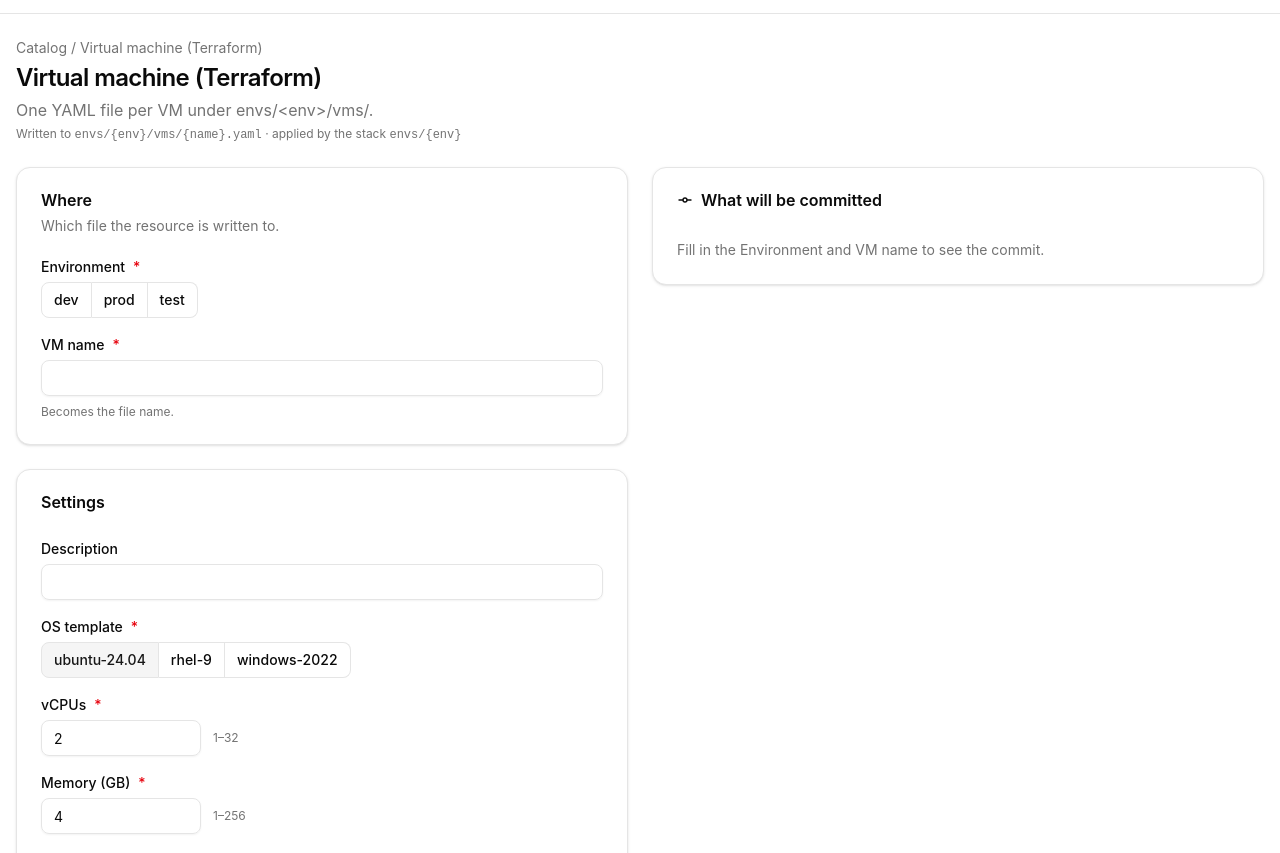
Test case: a resource request previews its commit and approvals, then submits
Expected: the heading "Virtual machine (Terraform)" is shown, left=16, top=63, right=322, bottom=92
Expected: the text "Fill in the Environment and VM name to see the commit." is shown, left=677, top=241, right=1044, bottom=258
Click the radio button labelled "prod" at (120, 300), box left=92, top=282, right=148, bottom=318
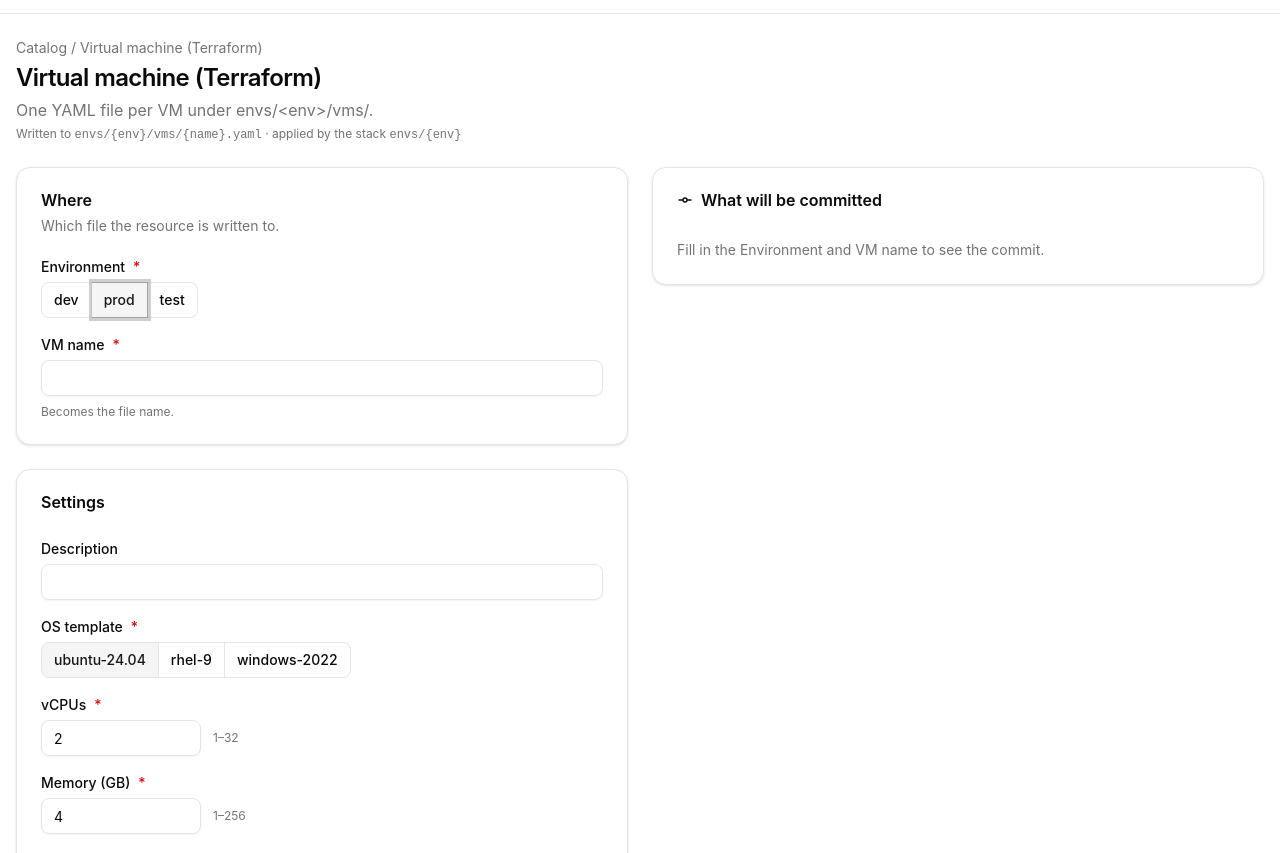
Type "web01" into the field labelled "VM name *" at (322, 378), box left=41, top=360, right=603, bottom=396
(page scrolled)
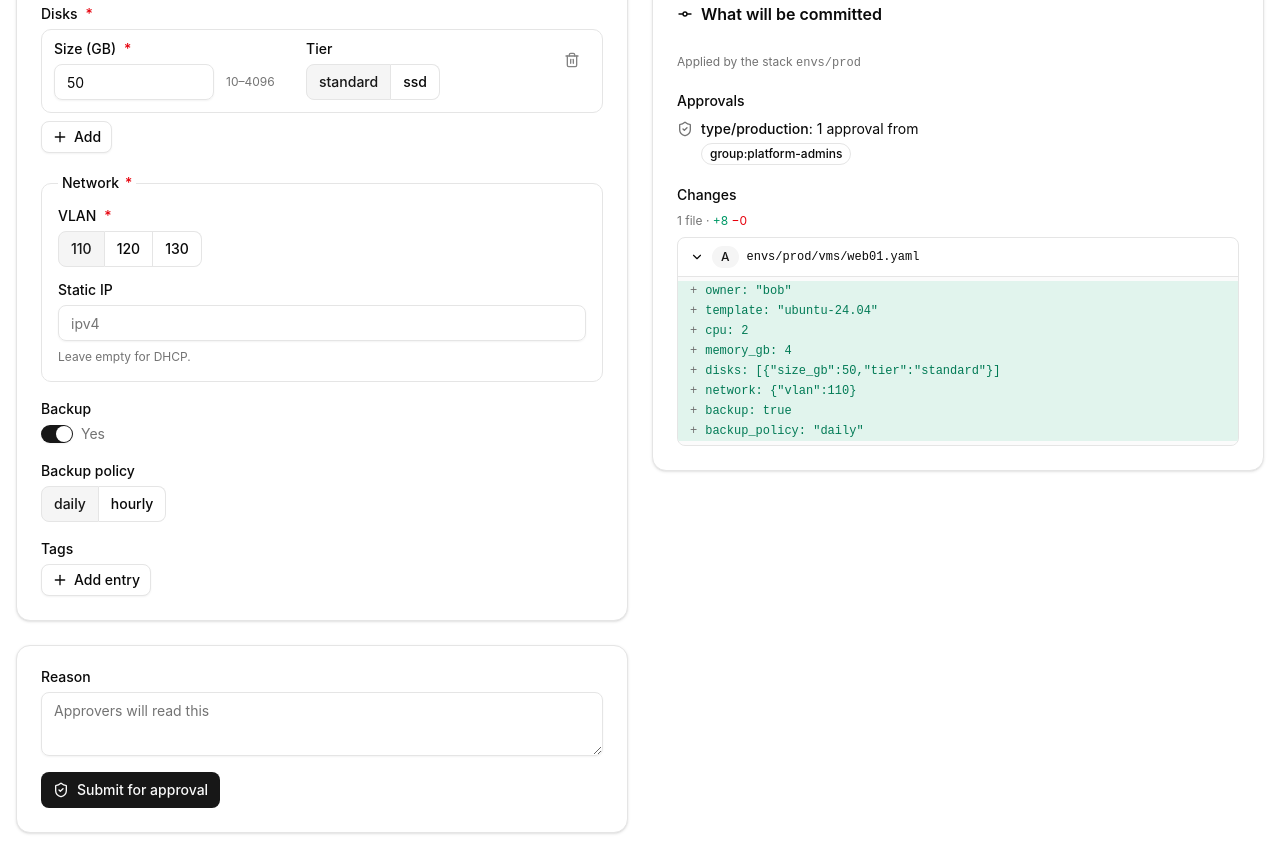
Expected: the text "envs/prod/vms/web01.yaml" is shown, left=746, top=249, right=919, bottom=265
Expected: the text "type/production" is shown, left=701, top=120, right=809, bottom=137
Expected: the text "group:platform-admins" is shown, left=701, top=143, right=852, bottom=165
Type "Needed for the launch" into the text box labelled "Reason" at (322, 724), box left=41, top=692, right=603, bottom=756
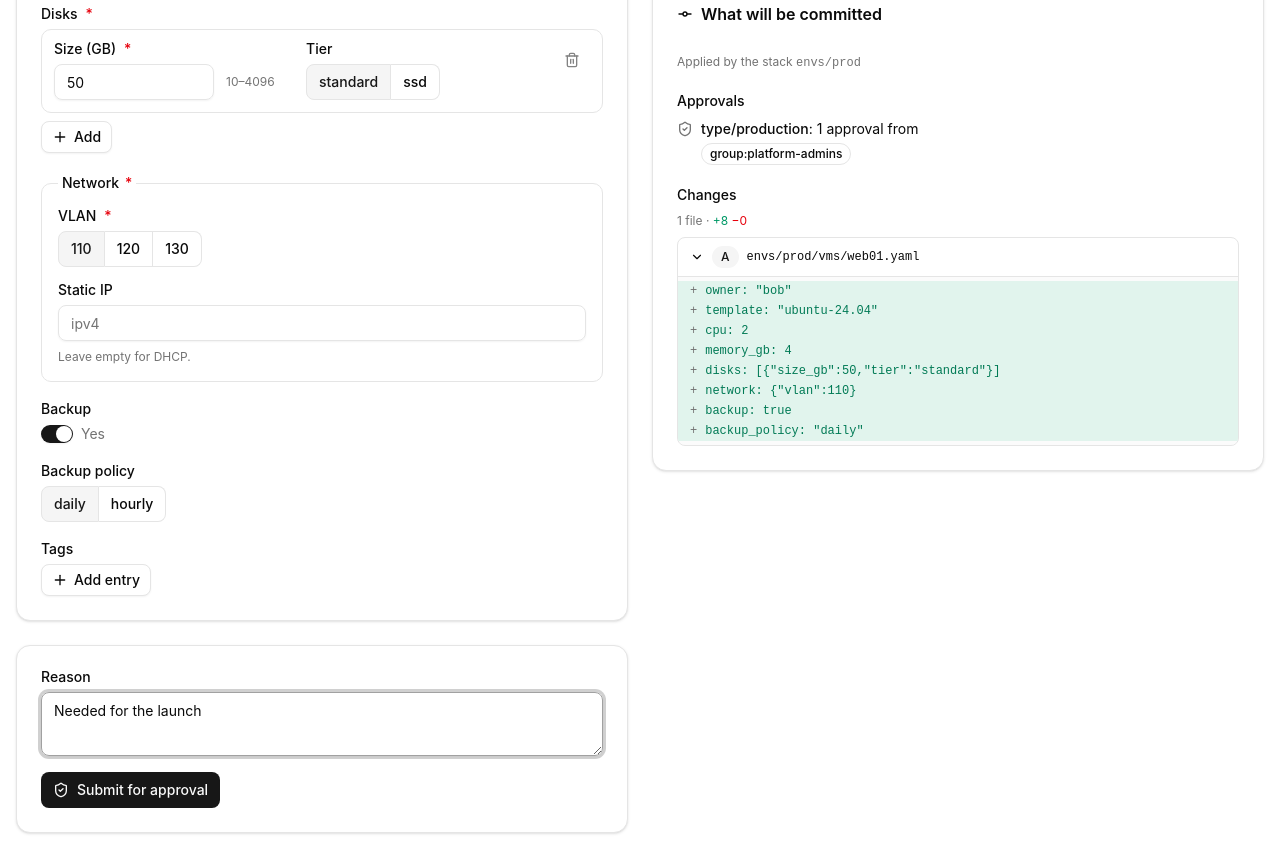
Click the button "Submit for approval" at (131, 790), box left=41, top=772, right=220, bottom=808
(page scrolled)
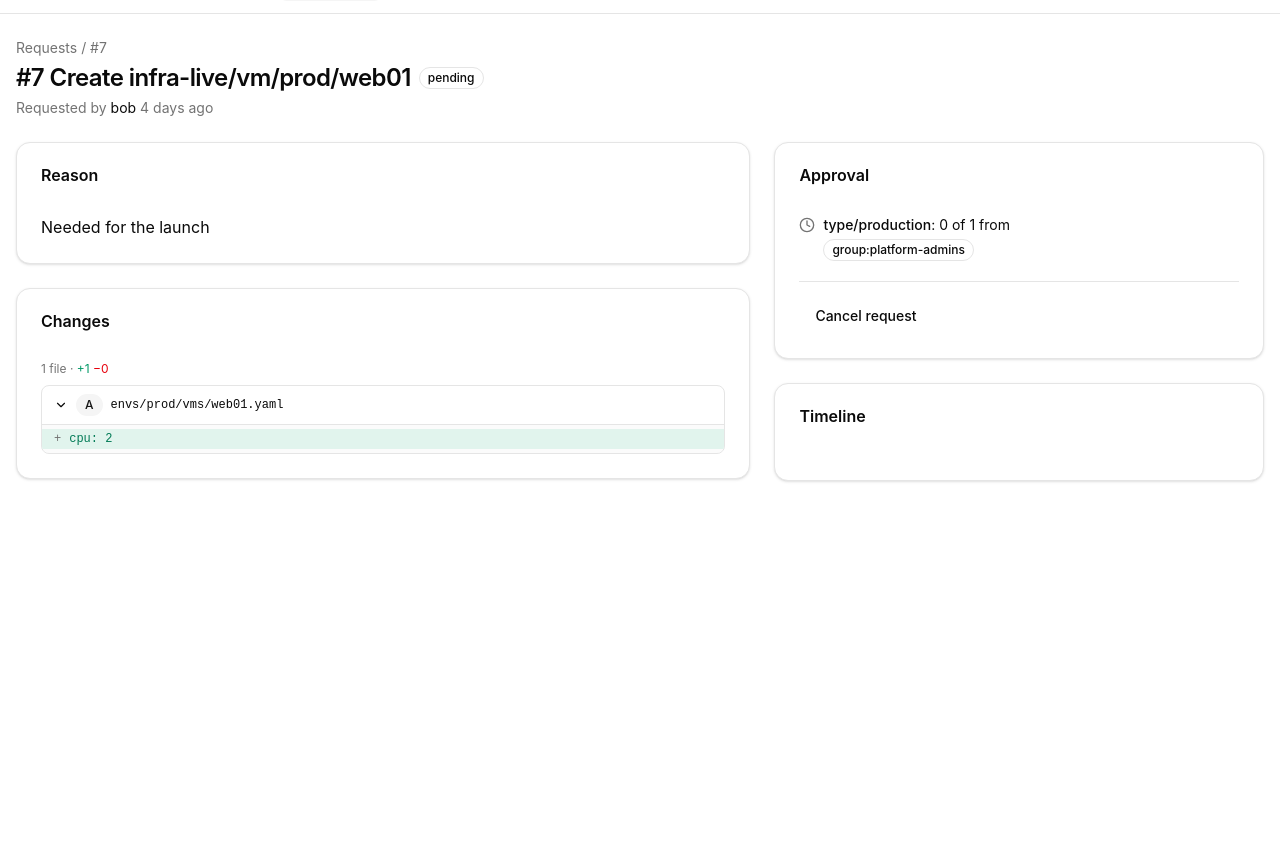
Expected: the heading "#7 Create infra-live/vm/prod/web01" is shown, left=16, top=62, right=411, bottom=94
